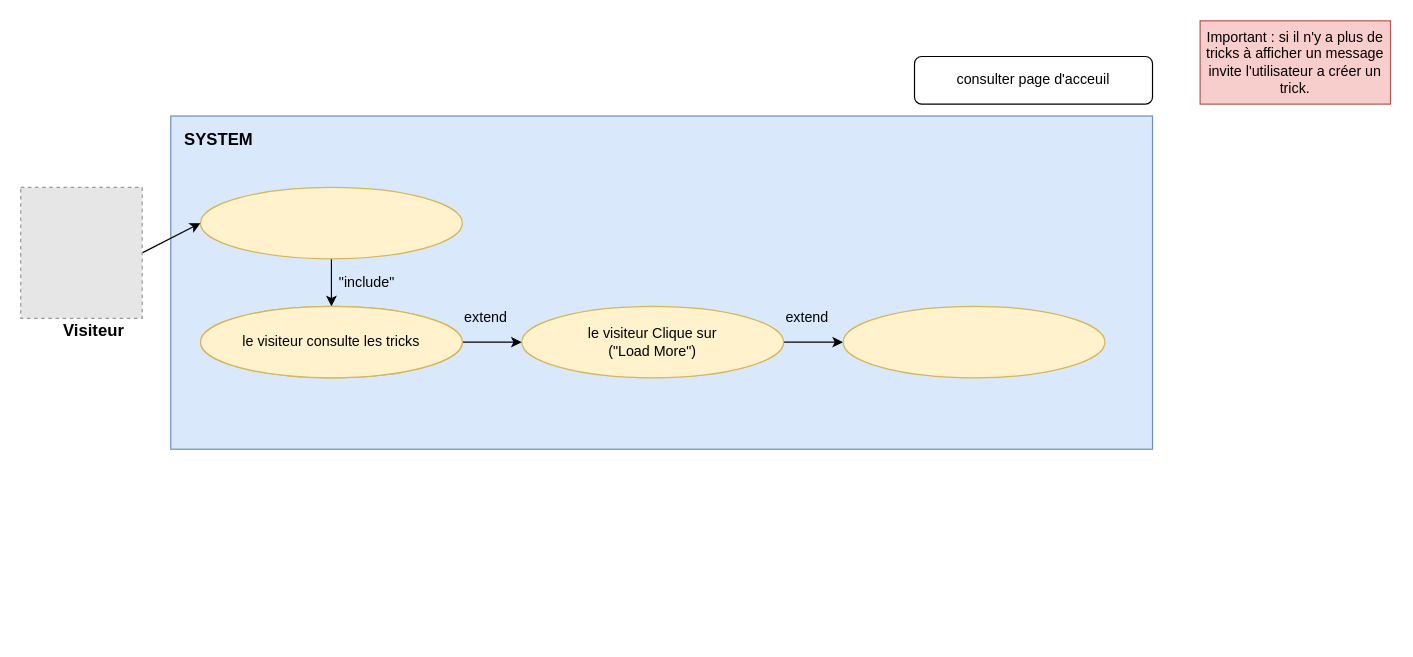
This 1413x657 diagram has some shape labels left out. Grey dashed boxes stand in for pictures. Here are the shapes that lost their labels. From the top down, the centre of each, then its label:
the point at 330,222: accède à la page "home"
the point at 973,341: Le système affiche les autres tricks disponible grâce a un script ajax
